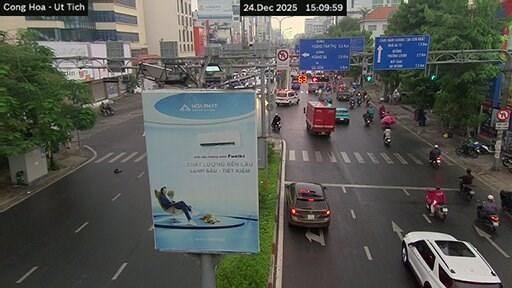motorbike: (477, 204, 499, 231), (455, 145, 478, 157), (472, 142, 494, 154), (459, 183, 474, 200), (500, 190, 511, 213), (434, 204, 447, 220), (502, 154, 511, 171), (430, 157, 441, 168), (271, 121, 281, 133), (99, 109, 113, 116), (364, 117, 371, 126), (379, 111, 386, 119), (384, 137, 390, 145), (349, 101, 354, 108), (366, 99, 370, 106), (357, 99, 361, 106)
